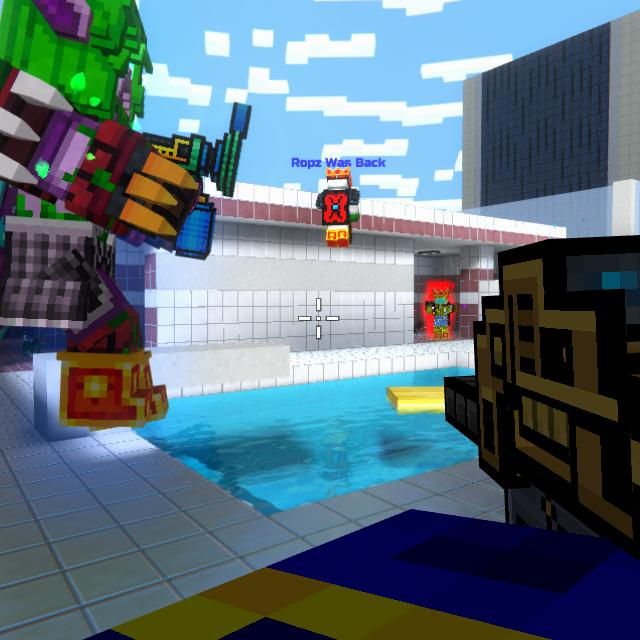Enemy: (425, 292, 458, 340)
